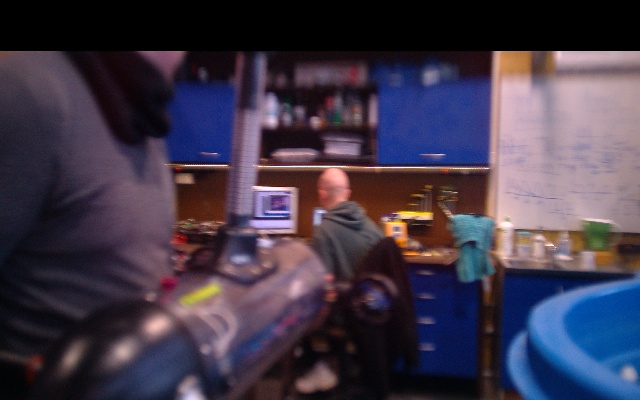black: (226, 85, 265, 236)
